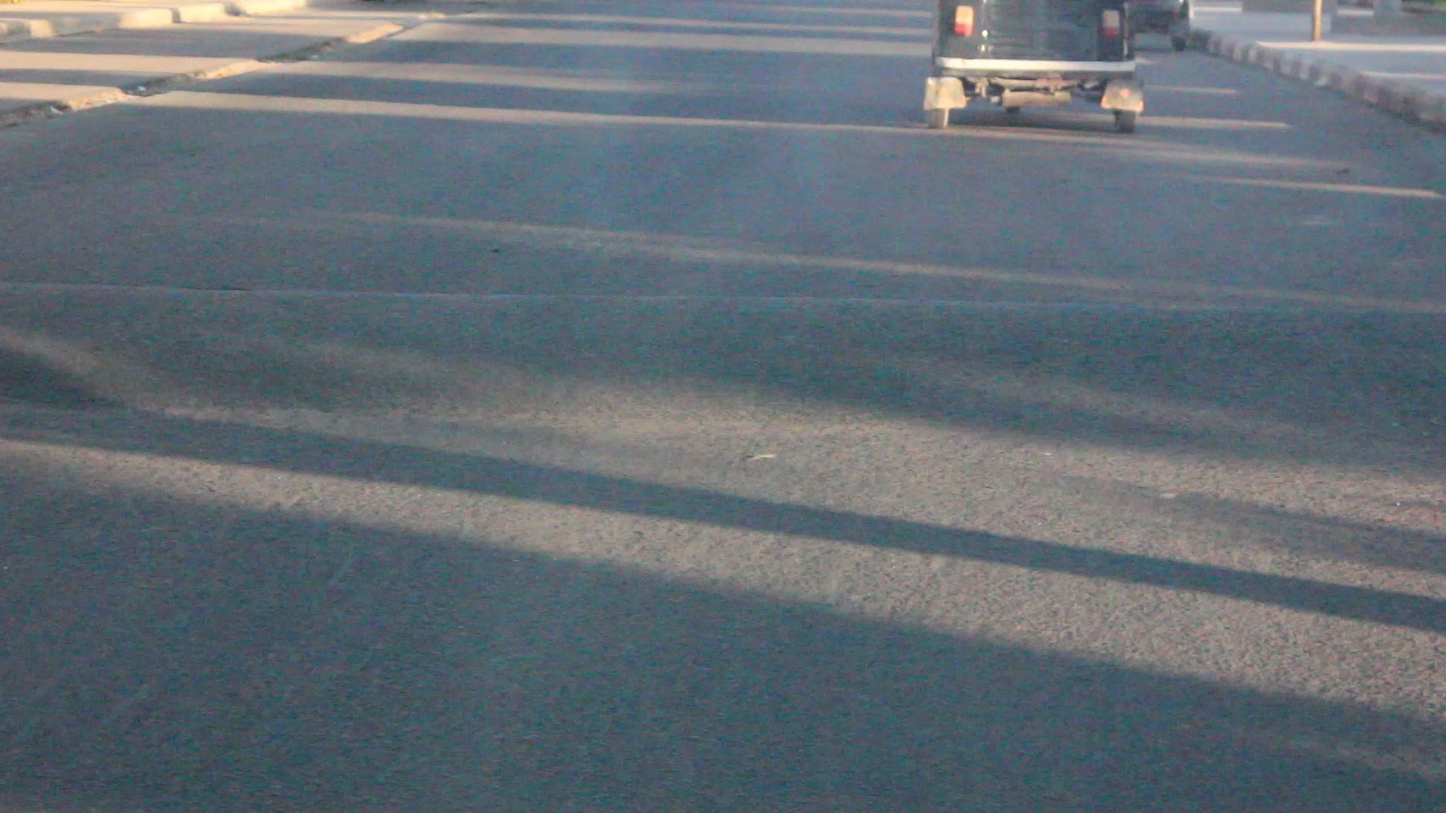Bump: (8, 245, 1446, 444)
